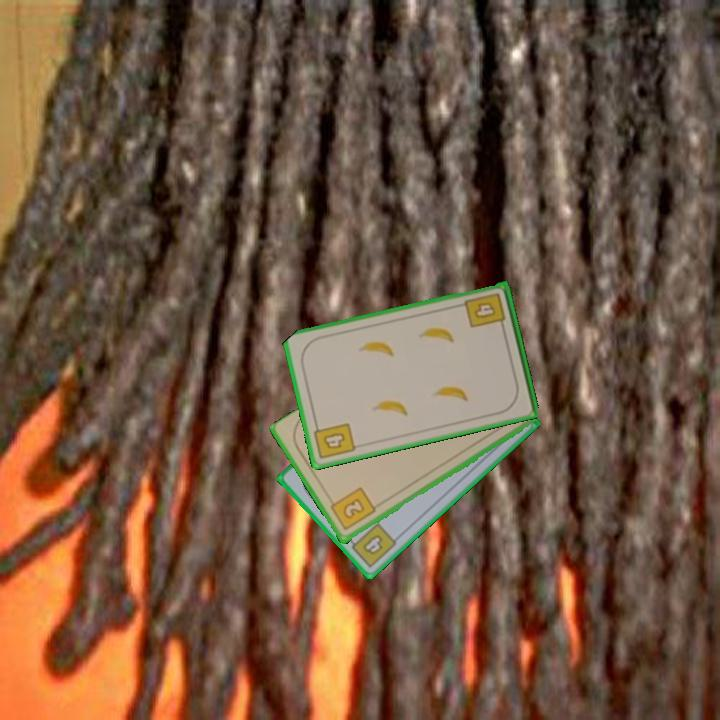2b: (325, 484, 378, 533)
4b: (344, 520, 400, 571), (311, 419, 358, 463), (462, 289, 509, 332)
